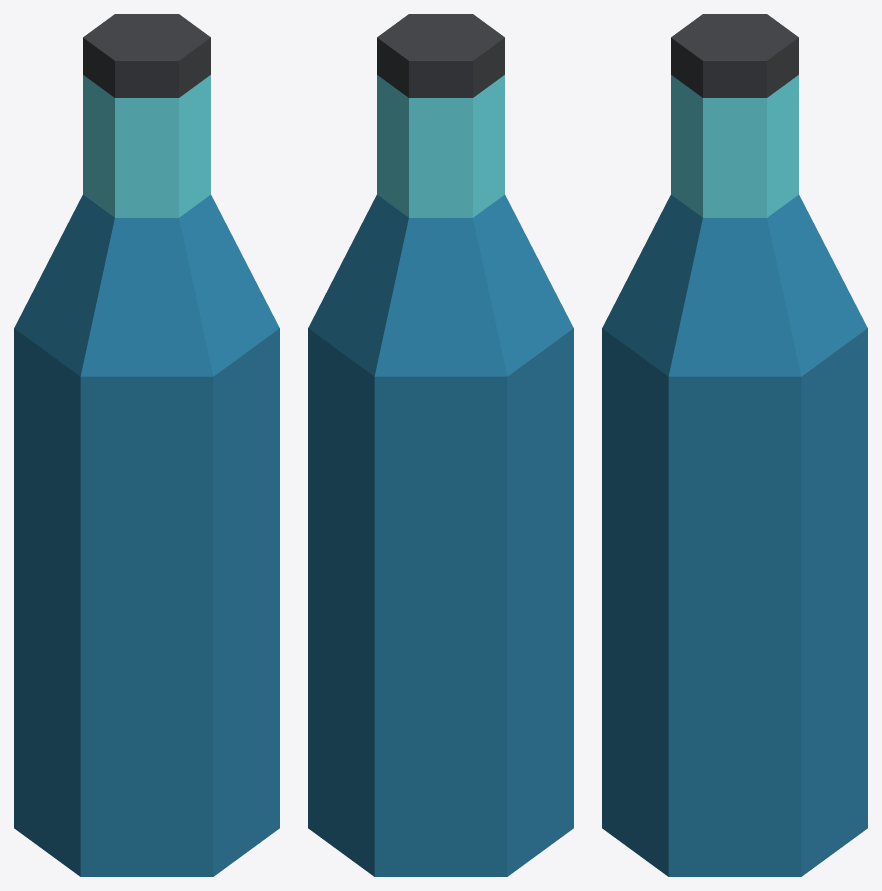
The model's file is Bottle.fbx.
3 renders of one model, left to right at view 1: azimuth 30°, elevation 25°; view 2: azimuth 150°, elevation 25°; view 3: azimuth 270°, elevation 25°, orthographic.
Visible parts, largest first — view 1: bottle; view 2: bottle; view 3: bottle.
Part boxes in pixels (x1,y1,x2,y2): bottle: (14,14,279,876); bottle: (308,14,573,876); bottle: (602,14,867,876).
Bounding box in the file's own units: 10.8 × 40.98 × 12.48.
